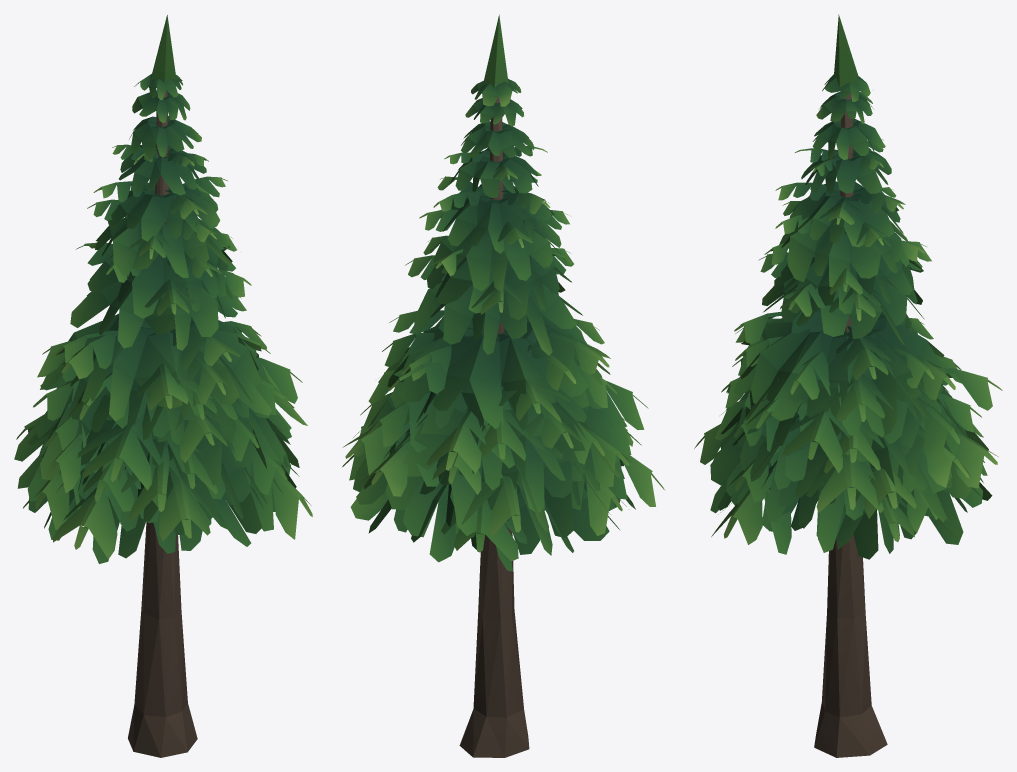
File: spruce_L_normal_tall_irregular_s19.glb
3 views of the same model, side by side, from view 1: azimuth 30°, elevation 25°; view 2: azimuth 150°, elevation 25°; view 3: azimuth 270°, elevation 25° (orthographic).
Parts seen in each view (by area): view 1: Tree; view 2: Tree; view 3: Tree.
Boxes of the visible parts, x1=… form: Tree: x1=14, y1=15, x2=312, y2=757; Tree: x1=342, y1=14, x2=664, y2=757; Tree: x1=694, y1=14, x2=1002, y2=757.
Size of what is drawn, in the model's own units: 4.44 by 11.5 by 4.41.
